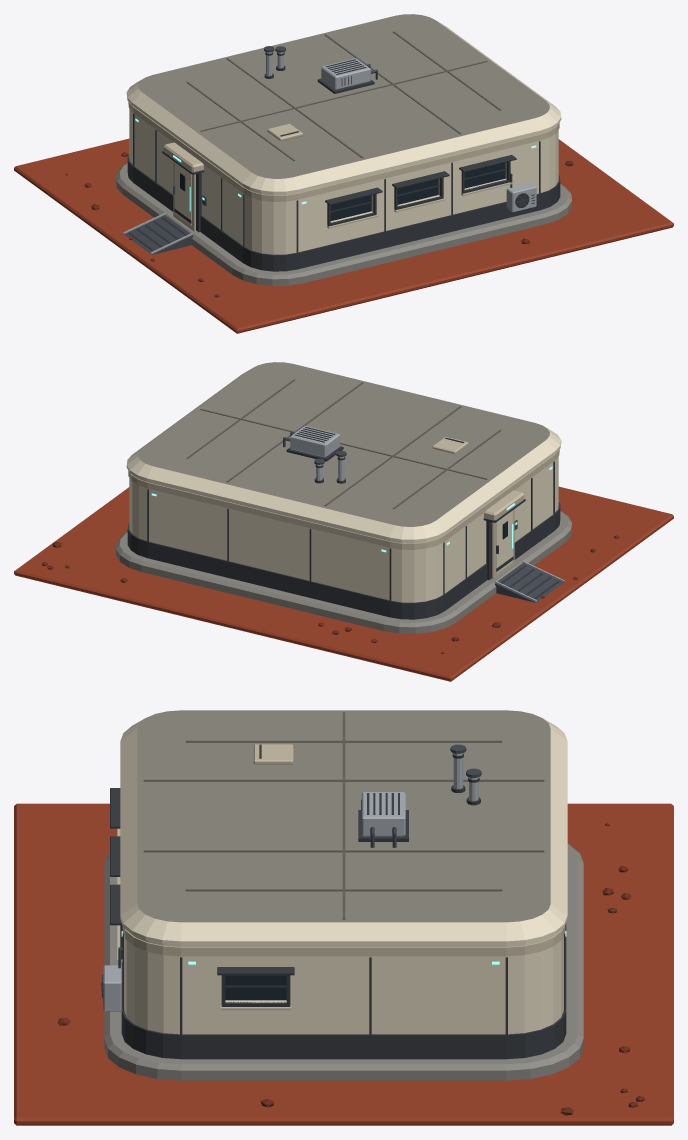
Rendered from barracks.glb.
The picture shows the model from 3 angles, top to bottom: view 1: azimuth 30°, elevation 25°; view 2: azimuth 150°, elevation 25°; view 3: azimuth 270°, elevation 25°; orthographic projection. The views are drawn at different scales.
Parts seen in each view (by area): view 1: Building_Roof, Building_Shell, Ground, EntranceDoor; view 2: Building_Roof, Building_Shell, Ground, EntranceDoor; view 3: Building_Roof, Ground, Building_Shell.
Boxes of the visible parts, x1,y1,x2,y2 form: Building_Roof: (126, 14, 561, 194); Building_Shell: (116, 101, 571, 285); Ground: (14, 138, 673, 333); EntranceDoor: (173, 161, 195, 231); Building_Roof: (126, 362, 561, 542); Building_Shell: (116, 449, 571, 633); Ground: (14, 486, 673, 681); EntranceDoor: (492, 509, 514, 579); Building_Roof: (120, 710, 567, 945); Ground: (14, 803, 673, 1125); Building_Shell: (101, 788, 583, 1080).
Bounding box in the file's own units: 17 × 4.88 × 15.
